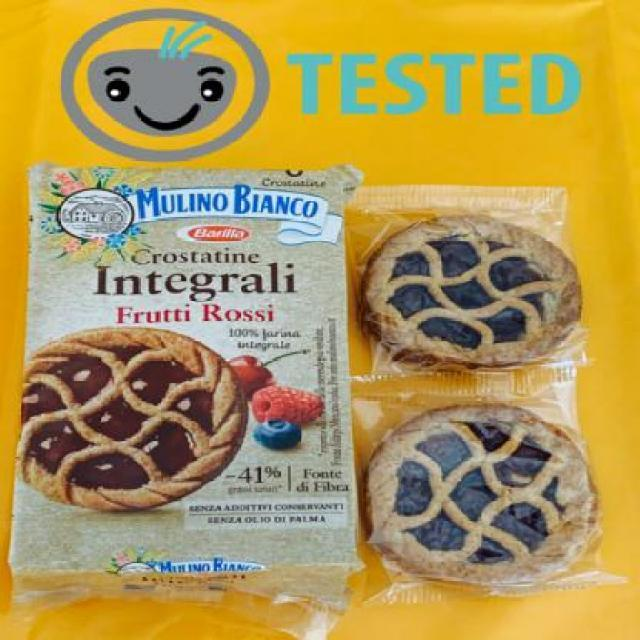Merendine: (11, 160, 371, 598)
Merendine packaged: (357, 195, 603, 372), (369, 406, 603, 590)
